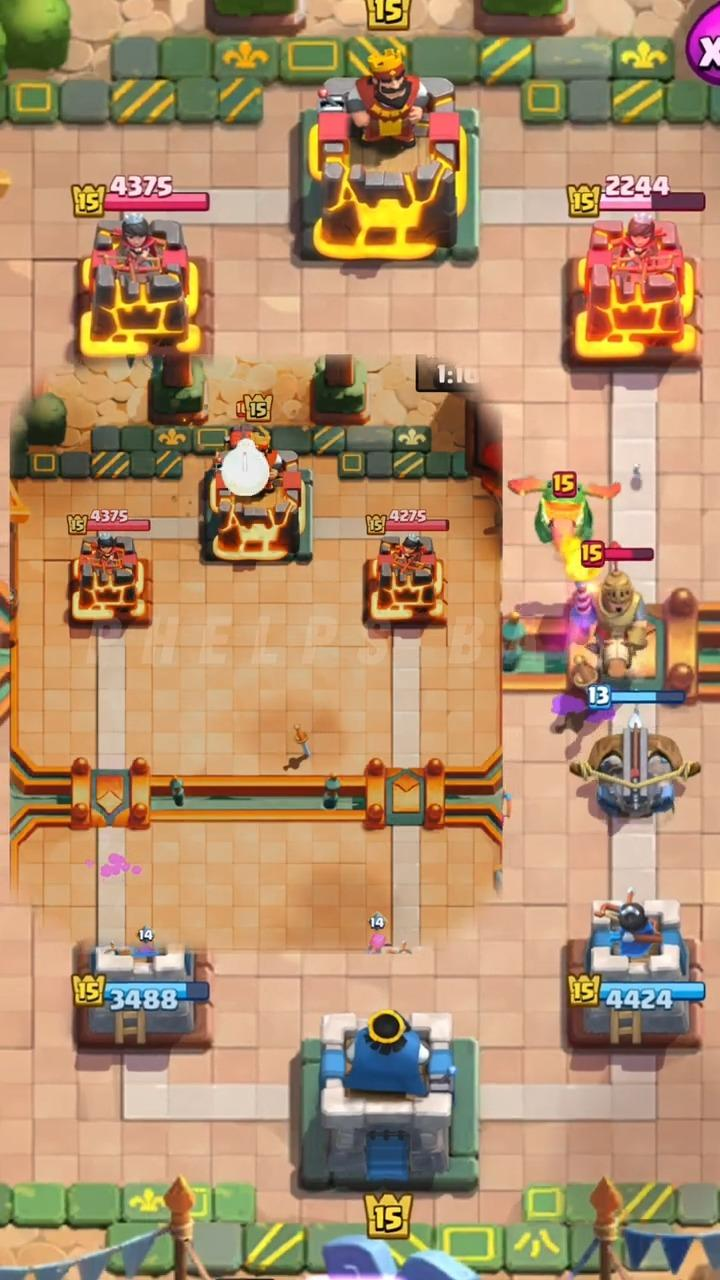baby dragon: (508, 472, 620, 546)
prince: (568, 564, 648, 681)
x-bow: (571, 706, 700, 821)
